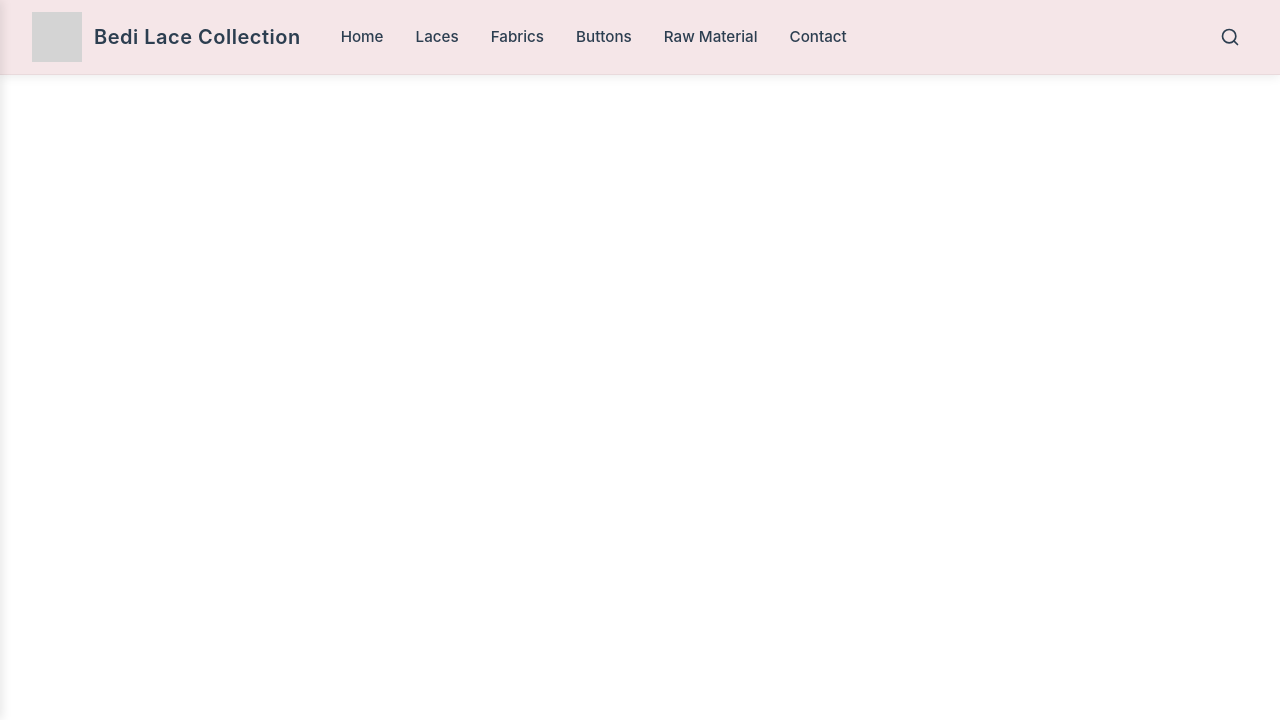
it: Header Component › displays close button when search is open
This screenshot has width=1280, height=720.
Click the button named "Search" at [1230, 37], box 1212,19 -> 1248,55
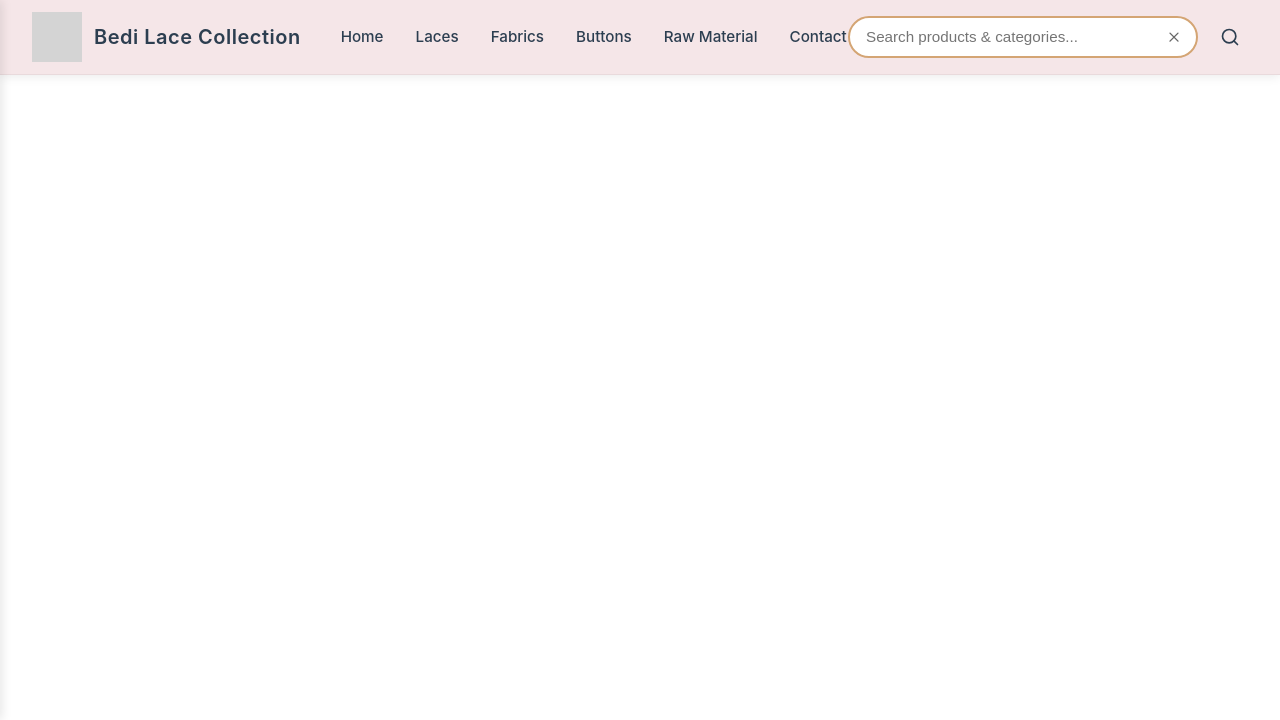
Expected: the button named "Close search" is shown, 1162,25 -> 1186,49
